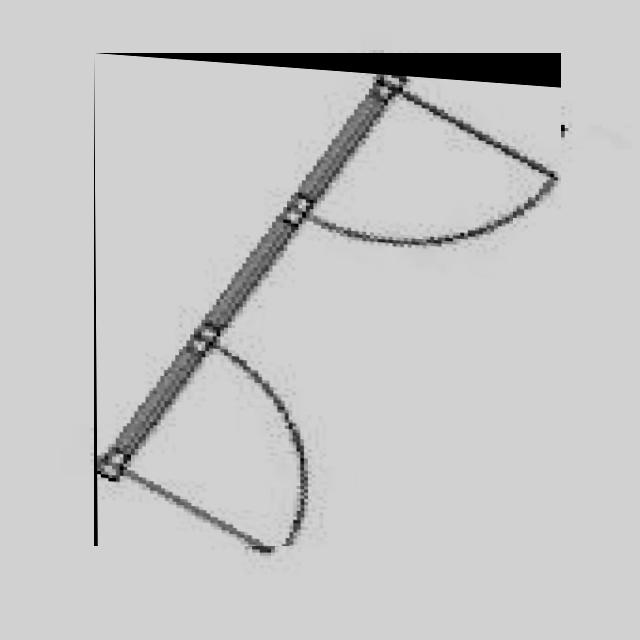door: (94, 53, 561, 546)
